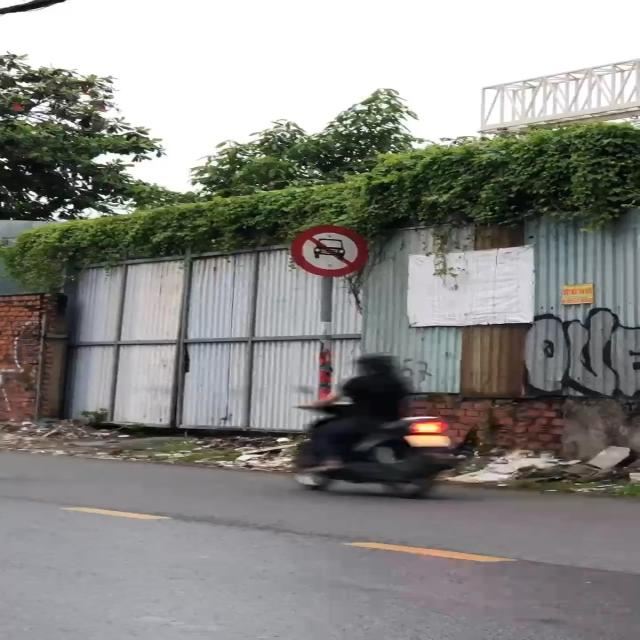Bien bao cam xe oto: (285, 222, 376, 278)
